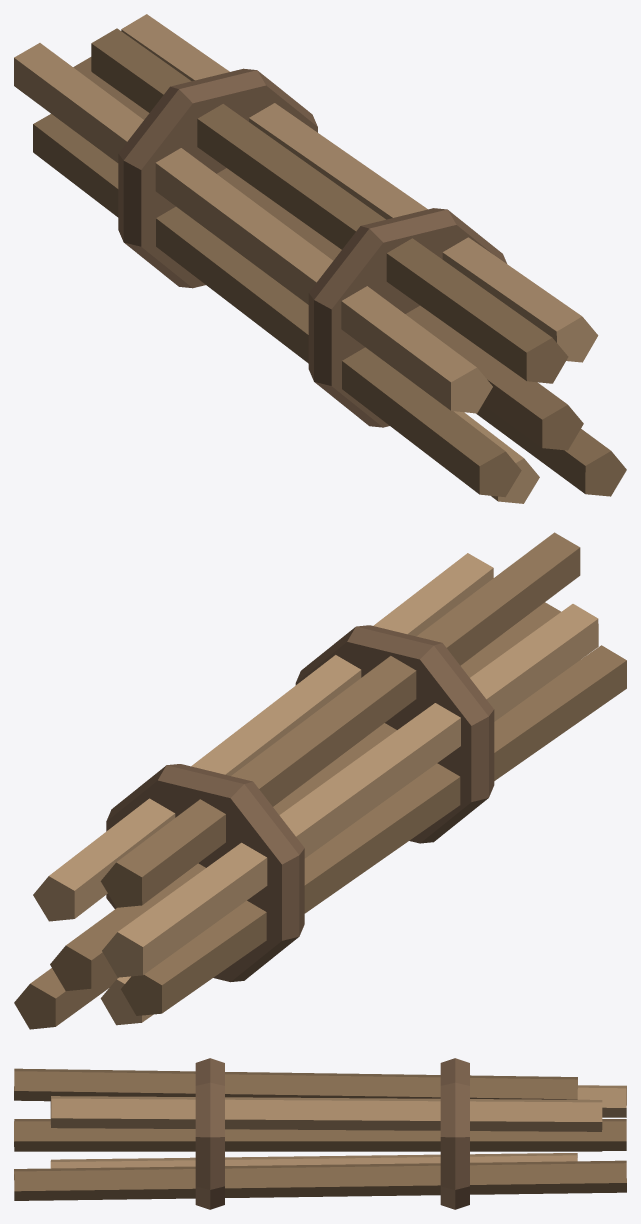
The model's file is woodoffhand.glb.
3 views of the same model, one above another, from view 1: azimuth 30°, elevation 25°; view 2: azimuth 150°, elevation 25°; view 3: azimuth 270°, elevation 25° (orthographic). The views are drawn at different scales.
Visible parts, largest first — view 1: woodoffhand; view 2: woodoffhand; view 3: woodoffhand.
Part boxes in pixels (box(x1,y1,x2,y2)): woodoffhand: box(14, 14, 626, 503); woodoffhand: box(14, 532, 626, 1029); woodoffhand: box(14, 1058, 626, 1209).
Bounding box in the file's own units: 0.1146 × 0.1146 × 0.5004.
